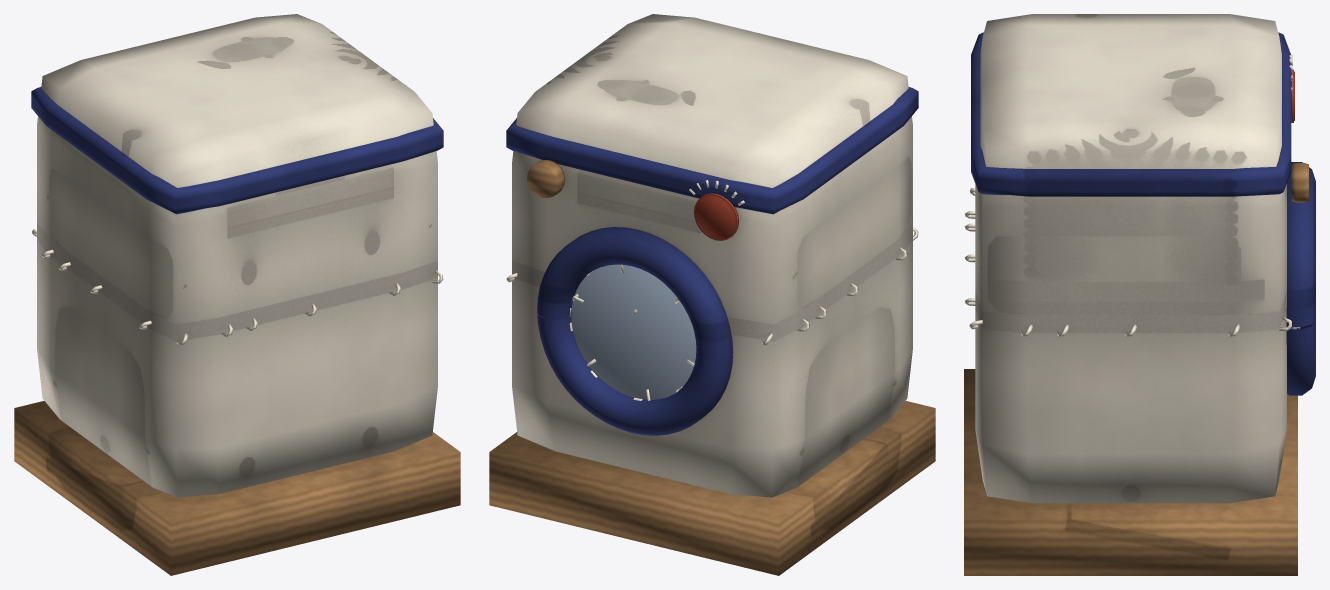
Rendered from dryer.glb.
3 views of the same model, side by side, from view 1: azimuth 30°, elevation 25°; view 2: azimuth 150°, elevation 25°; view 3: azimuth 270°, elevation 25° (orthographic). The views are drawn at different scales.
Parts seen in each view (by area): view 1: dryer_body, dryer_wood, dryer_navy, dryer_stitch; view 2: dryer_body, dryer_wood, dryer_navy, dryer_film, dryer_red, dryer_stitch; view 3: dryer_body, dryer_wood, dryer_navy, dryer_stitch.
Part boxes in pixels (x1,y1,x2,y2): dryer_body: (37,14,437,497); dryer_wood: (14,401,460,575); dryer_navy: (31,87,443,214); dryer_stitch: (32,229,443,345); dryer_body: (512,14,912,497); dryer_wood: (489,160,935,575); dryer_navy: (506,87,918,435); dryer_film: (571,264,696,399); dryer_red: (694,193,738,240); dryer_stitch: (506,180,918,400); dryer_body: (975,14,1286,503); dryer_wood: (964,163,1308,575); dryer_navy: (971,32,1315,395); dryer_stitch: (964,55,1300,336).
Size of the model in its own units: 1.62 by 2.12 by 1.58.
7 materials, 5 textured.
